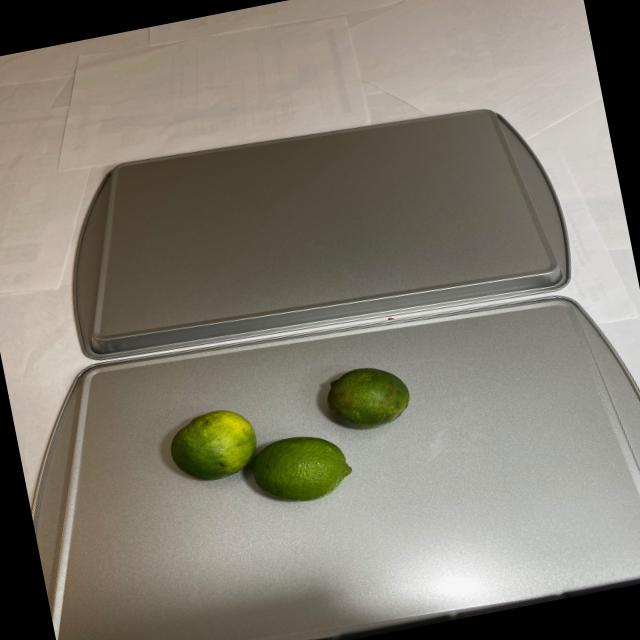lemon: (155, 356, 428, 524)
